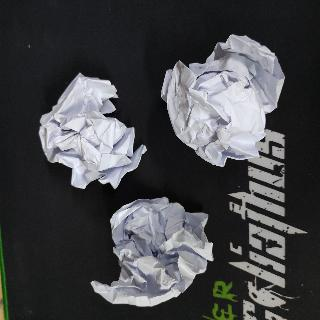8/可回收垃圾/纸: (159, 32, 286, 168), (88, 195, 215, 310), (37, 71, 147, 190)
